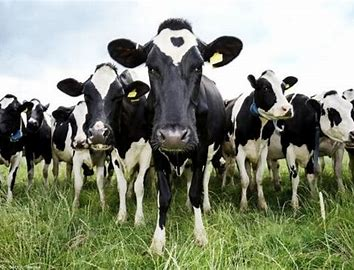waka: (108, 10, 246, 259), (247, 65, 298, 221)
